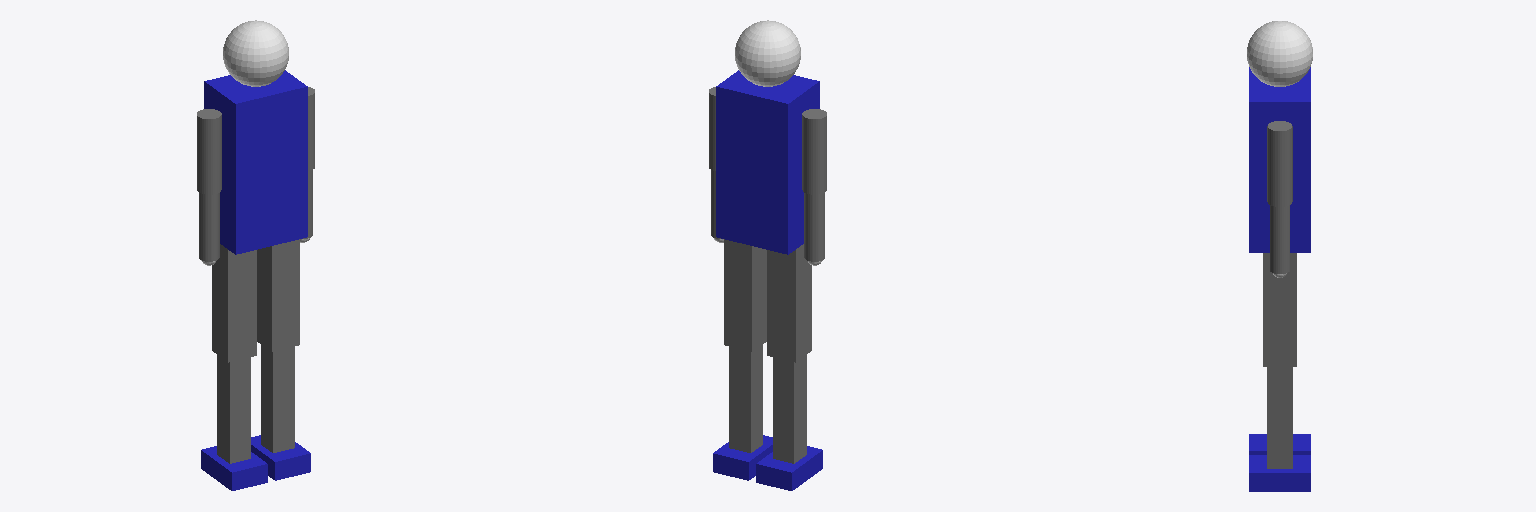
URDF robot description (humanoid_with_control):
<?xml version="1.0"?>
<!--
  ========================================
  第六讲：运动学验证用 URDF
  ========================================
  基于第五讲 humanoid_with_control.urdf，新增以下内容：
    - left_hand / right_hand 链接（固定关节，位于前臂末端）
  目的：提供末端执行器坐标系，使 tf_echo 能直接查询手端位置。

  修改说明（相对第五讲原始文件）：
    1. 在 left_elbow 关节之后，新增 left_hand 链接和 left_wrist_fixed 固定关节
    2. 在 right_elbow 关节之后，新增 right_hand 链接和 right_wrist_fixed 固定关节
    3. 其余内容与原文件完全一致
-->

<robot name="humanoid_with_control">

  <!-- ==================== 世界根链接 ==================== -->
  <link name="base_link"/>

  <joint name="base_to_torso" type="fixed">
    <parent link="base_link"/>
    <child link="torso"/>
    <origin xyz="0 0 0.625" rpy="0 0 0"/>
  </joint>

  <!-- 基础材质 -->
  <material name="blue">
    <color rgba="0.2 0.2 0.8 1.0"/>
  </material>
  <material name="grey">
    <color rgba="0.5 0.5 0.5 1.0"/>
  </material>
  <material name="white">
    <color rgba="0.9 0.9 0.9 1.0"/>
  </material>

  <!-- ==================== 躯干 ==================== -->
  <link name="torso">
    <visual>
      <geometry>
        <box size="0.2 0.15 0.4"/>
      </geometry>
      <origin xyz="0 0 0.2" rpy="0 0 0"/>
      <material name="blue"/>
    </visual>
    <collision>
      <geometry>
        <box size="0.2 0.15 0.4"/>
      </geometry>
      <origin xyz="0 0 0.2" rpy="0 0 0"/>
    </collision>
    <inertial>
      <mass value="5.0"/>
      <origin xyz="0 0 0.2" rpy="0 0 0"/>
      <inertia ixx="0.1" ixy="0" ixz="0" iyy="0.1" iyz="0" izz="0.05"/>
    </inertial>
  </link>

  <!-- ==================== 头部 ==================== -->
  <link name="head">
    <visual>
      <geometry>
        <sphere radius="0.08"/>
      </geometry>
      <origin xyz="0 0 0.08" rpy="0 0 0"/>
      <material name="white"/>
    </visual>
    <collision>
      <geometry>
        <sphere radius="0.08"/>
      </geometry>
      <origin xyz="0 0 0.08" rpy="0 0 0"/>
    </collision>
    <inertial>
      <mass value="0.5"/>
      <origin xyz="0 0 0.08" rpy="0 0 0"/>
      <inertia ixx="0.005" ixy="0" ixz="0" iyy="0.005" iyz="0" izz="0.005"/>
    </inertial>
  </link>

  <joint name="head_joint" type="fixed">
    <parent link="torso"/>
    <child link="head"/>
    <origin xyz="0 0 0.4" rpy="0 0 0"/>
  </joint>

  <!-- ==================== 左臂 ==================== -->
  <link name="left_upper_arm">
    <visual>
      <geometry>
        <cylinder length="0.2" radius="0.03"/>
      </geometry>
      <origin xyz="0 0 -0.1" rpy="0 0 0"/>
      <material name="grey"/>
    </visual>
    <collision>
      <geometry>
        <cylinder length="0.2" radius="0.03"/>
      </geometry>
      <origin xyz="0 0 -0.1" rpy="0 0 0"/>
    </collision>
    <inertial>
      <mass value="0.5"/>
      <origin xyz="0 0 -0.1" rpy="0 0 0"/>
      <inertia ixx="0.01" ixy="0" ixz="0" iyy="0.01" iyz="0" izz="0.001"/>
    </inertial>
  </link>

  <joint name="left_shoulder_pitch" type="revolute">
    <parent link="torso"/>
    <child link="left_upper_arm"/>
    <origin xyz="0.13 0 0.35" rpy="0 0 0"/>
    <axis xyz="1 0 0"/>
    <limit lower="-1.57" upper="1.57" effort="10" velocity="1.0"/>
  </joint>

  <link name="left_forearm">
    <visual>
      <geometry>
        <cylinder length="0.18" radius="0.025"/>
      </geometry>
      <origin xyz="0 0 -0.09" rpy="0 0 0"/>
      <material name="grey"/>
    </visual>
    <collision>
      <geometry>
        <cylinder length="0.18" radius="0.025"/>
      </geometry>
      <origin xyz="0 0 -0.09" rpy="0 0 0"/>
    </collision>
    <inertial>
      <mass value="0.3"/>
      <origin xyz="0 0 -0.09" rpy="0 0 0"/>
      <inertia ixx="0.005" ixy="0" ixz="0" iyy="0.005" iyz="0" izz="0.0005"/>
    </inertial>
  </link>

  <joint name="left_elbow" type="revolute">
    <parent link="left_upper_arm"/>
    <child link="left_forearm"/>
    <origin xyz="0 0 -0.2" rpy="0 0 0"/>
    <axis xyz="1 0 0"/>
    <limit lower="-2.0" upper="0" effort="10" velocity="1.0"/>
  </joint>

  <!-- 第六讲新增：左手末端标记（fixed joint，不影响控制） -->
  <link name="left_hand">
    <visual>
      <geometry>
        <sphere radius="0.02"/>
      </geometry>
      <material name="white"/>
    </visual>
    <collision>
      <geometry>
        <sphere radius="0.02"/>
      </geometry>
    </collision>
    <inertial>
      <mass value="0.05"/>
      <inertia ixx="0.0001" ixy="0" ixz="0" iyy="0.0001" iyz="0" izz="0.0001"/>
    </inertial>
  </link>

  <joint name="left_wrist_fixed" type="fixed">
    <parent link="left_forearm"/>
    <child link="left_hand"/>
    <origin xyz="0 0 -0.18" rpy="0 0 0"/>
  </joint>

  <!-- ==================== 右臂 ==================== -->
  <link name="right_upper_arm">
    <visual>
      <geometry>
        <cylinder length="0.2" radius="0.03"/>
      </geometry>
      <origin xyz="0 0 -0.1" rpy="0 0 0"/>
      <material name="grey"/>
    </visual>
    <collision>
      <geometry>
        <cylinder length="0.2" radius="0.03"/>
      </geometry>
      <origin xyz="0 0 -0.1" rpy="0 0 0"/>
    </collision>
    <inertial>
      <mass value="0.5"/>
      <origin xyz="0 0 -0.1" rpy="0 0 0"/>
      <inertia ixx="0.01" ixy="0" ixz="0" iyy="0.01" iyz="0" izz="0.001"/>
    </inertial>
  </link>

  <joint name="right_shoulder_pitch" type="revolute">
    <parent link="torso"/>
    <child link="right_upper_arm"/>
    <origin xyz="-0.13 0 0.35" rpy="0 0 0"/>
    <axis xyz="1 0 0"/>
    <limit lower="-1.57" upper="1.57" effort="10" velocity="1.0"/>
  </joint>

  <link name="right_forearm">
    <visual>
      <geometry>
        <cylinder length="0.18" radius="0.025"/>
      </geometry>
      <origin xyz="0 0 -0.09" rpy="0 0 0"/>
      <material name="grey"/>
    </visual>
    <collision>
      <geometry>
        <cylinder length="0.18" radius="0.025"/>
      </geometry>
      <origin xyz="0 0 -0.09" rpy="0 0 0"/>
    </collision>
    <inertial>
      <mass value="0.3"/>
      <origin xyz="0 0 -0.09" rpy="0 0 0"/>
      <inertia ixx="0.005" ixy="0" ixz="0" iyy="0.005" iyz="0" izz="0.0005"/>
    </inertial>
  </link>

  <joint name="right_elbow" type="revolute">
    <parent link="right_upper_arm"/>
    <child link="right_forearm"/>
    <origin xyz="0 0 -0.2" rpy="0 0 0"/>
    <axis xyz="1 0 0"/>
    <limit lower="-2.0" upper="0" effort="10" velocity="1.0"/>
  </joint>

  <!-- 第六讲新增：右手末端标记（fixed joint，不影响控制） -->
  <link name="right_hand">
    <visual>
      <geometry>
        <sphere radius="0.02"/>
      </geometry>
      <material name="white"/>
    </visual>
    <collision>
      <geometry>
        <sphere radius="0.02"/>
      </geometry>
    </collision>
    <inertial>
      <mass value="0.05"/>
      <inertia ixx="0.0001" ixy="0" ixz="0" iyy="0.0001" iyz="0" izz="0.0001"/>
    </inertial>
  </link>

  <joint name="right_wrist_fixed" type="fixed">
    <parent link="right_forearm"/>
    <child link="right_hand"/>
    <origin xyz="0 0 -0.18" rpy="0 0 0"/>
  </joint>

  <!-- ==================== 左腿 ==================== -->
  <link name="left_thigh">
    <visual>
      <geometry>
        <box size="0.08 0.08 0.3"/>
      </geometry>
      <origin xyz="0 0 -0.15" rpy="0 0 0"/>
      <material name="grey"/>
    </visual>
    <collision>
      <geometry>
        <box size="0.08 0.08 0.3"/>
      </geometry>
      <origin xyz="0 0 -0.15" rpy="0 0 0"/>
    </collision>
    <inertial>
      <mass value="1.0"/>
      <origin xyz="0 0 -0.15" rpy="0 0 0"/>
      <inertia ixx="0.02" ixy="0" ixz="0" iyy="0.02" iyz="0" izz="0.005"/>
    </inertial>
  </link>

  <joint name="left_hip_pitch" type="revolute">
    <parent link="torso"/>
    <child link="left_thigh"/>
    <origin xyz="0.06 0 0" rpy="0 0 0"/>
    <axis xyz="1 0 0"/>
    <limit lower="-1.57" upper="1.57" effort="20" velocity="1.0"/>
  </joint>

  <link name="left_shin">
    <visual>
      <geometry>
        <box size="0.06 0.06 0.3"/>
      </geometry>
      <origin xyz="0 0 -0.15" rpy="0 0 0"/>
      <material name="grey"/>
    </visual>
    <collision>
      <geometry>
        <box size="0.06 0.06 0.3"/>
      </geometry>
      <origin xyz="0 0 -0.15" rpy="0 0 0"/>
    </collision>
    <inertial>
      <mass value="0.8"/>
      <origin xyz="0 0 -0.15" rpy="0 0 0"/>
      <inertia ixx="0.015" ixy="0" ixz="0" iyy="0.015" iyz="0" izz="0.003"/>
    </inertial>
  </link>

  <joint name="left_knee" type="revolute">
    <parent link="left_thigh"/>
    <child link="left_shin"/>
    <origin xyz="0 0 -0.3" rpy="0 0 0"/>
    <axis xyz="1 0 0"/>
    <limit lower="0" upper="2.0" effort="20" velocity="1.0"/>
  </joint>

  <link name="left_foot">
    <visual>
      <geometry>
        <box size="0.1 0.15 0.05"/>
      </geometry>
      <origin xyz="0 0 0" rpy="0 0 0"/>
      <material name="blue"/>
    </visual>
    <collision>
      <geometry>
        <box size="0.1 0.15 0.05"/>
      </geometry>
      <origin xyz="0 0 0" rpy="0 0 0"/>
    </collision>
    <inertial>
      <mass value="0.3"/>
      <origin xyz="0 0 0" rpy="0 0 0"/>
      <inertia ixx="0.001" ixy="0" ixz="0" iyy="0.002" iyz="0" izz="0.002"/>
    </inertial>
  </link>

  <joint name="left_ankle" type="fixed">
    <parent link="left_shin"/>
    <child link="left_foot"/>
    <origin xyz="0 0 -0.3" rpy="0 0 0"/>
  </joint>

  <!-- ==================== 右腿 ==================== -->
  <link name="right_thigh">
    <visual>
      <geometry>
        <box size="0.08 0.08 0.3"/>
      </geometry>
      <origin xyz="0 0 -0.15" rpy="0 0 0"/>
      <material name="grey"/>
    </visual>
    <collision>
      <geometry>
        <box size="0.08 0.08 0.3"/>
      </geometry>
      <origin xyz="0 0 -0.15" rpy="0 0 0"/>
    </collision>
    <inertial>
      <mass value="1.0"/>
      <origin xyz="0 0 -0.15" rpy="0 0 0"/>
      <inertia ixx="0.02" ixy="0" ixz="0" iyy="0.02" iyz="0" izz="0.005"/>
    </inertial>
  </link>

  <joint name="right_hip_pitch" type="revolute">
    <parent link="torso"/>
    <child link="right_thigh"/>
    <origin xyz="-0.06 0 0" rpy="0 0 0"/>
    <axis xyz="1 0 0"/>
    <limit lower="-1.57" upper="1.57" effort="20" velocity="1.0"/>
  </joint>

  <link name="right_shin">
    <visual>
      <geometry>
        <box size="0.06 0.06 0.3"/>
      </geometry>
      <origin xyz="0 0 -0.15" rpy="0 0 0"/>
      <material name="grey"/>
    </visual>
    <collision>
      <geometry>
        <box size="0.06 0.06 0.3"/>
      </geometry>
      <origin xyz="0 0 -0.15" rpy="0 0 0"/>
    </collision>
    <inertial>
      <mass value="0.8"/>
      <origin xyz="0 0 -0.15" rpy="0 0 0"/>
      <inertia ixx="0.015" ixy="0" ixz="0" iyy="0.015" iyz="0" izz="0.003"/>
    </inertial>
  </link>

  <joint name="right_knee" type="revolute">
    <parent link="right_thigh"/>
    <child link="right_shin"/>
    <origin xyz="0 0 -0.3" rpy="0 0 0"/>
    <axis xyz="1 0 0"/>
    <limit lower="0" upper="2.0" effort="20" velocity="1.0"/>
  </joint>

  <link name="right_foot">
    <visual>
      <geometry>
        <box size="0.1 0.15 0.05"/>
      </geometry>
      <origin xyz="0 0 0" rpy="0 0 0"/>
      <material name="blue"/>
    </visual>
    <collision>
      <geometry>
        <box size="0.1 0.15 0.05"/>
      </geometry>
      <origin xyz="0 0 0" rpy="0 0 0"/>
    </collision>
    <inertial>
      <mass value="0.3"/>
      <origin xyz="0 0 0" rpy="0 0 0"/>
      <inertia ixx="0.001" ixy="0" ixz="0" iyy="0.002" iyz="0" izz="0.002"/>
    </inertial>
  </link>

  <joint name="right_ankle" type="fixed">
    <parent link="right_shin"/>
    <child link="right_foot"/>
    <origin xyz="0 0 -0.3" rpy="0 0 0"/>
  </joint>

  <!-- ==================== Transmission (ros_control 需要) ==================== -->
  <!-- 左臂传动 -->
  <transmission name="left_shoulder_transmission">
    <type>transmission_interface/SimpleTransmission</type>
    <joint name="left_shoulder_pitch">
      <hardwareInterface>hardware_interface/PositionJointInterface</hardwareInterface>
    </joint>
    <actuator name="left_shoulder_motor">
      <hardwareInterface>hardware_interface/PositionJointInterface</hardwareInterface>
      <mechanicalReduction>1</mechanicalReduction>
    </actuator>
  </transmission>

  <transmission name="left_elbow_transmission">
    <type>transmission_interface/SimpleTransmission</type>
    <joint name="left_elbow">
      <hardwareInterface>hardware_interface/PositionJointInterface</hardwareInterface>
    </joint>
    <actuator name="left_elbow_motor">
      <hardwareInterface>hardware_interface/PositionJointInterface</hardwareInterface>
      <mechanicalReduction>1</mechanicalReduction>
    </actuator>
  </transmission>

  <!-- 右臂传动 -->
  <transmission name="right_shoulder_transmission">
    <type>transmission_interface/SimpleTransmission</type>
    <joint name="right_shoulder_pitch">
      <hardwareInterface>hardware_interface/PositionJointInterface</hardwareInterface>
    </joint>
    <actuator name="right_shoulder_motor">
      <hardwareInterface>hardware_interface/PositionJointInterface</hardwareInterface>
      <mechanicalReduction>1</mechanicalReduction>
    </actuator>
  </transmission>

  <transmission name="right_elbow_transmission">
    <type>transmission_interface/SimpleTransmission</type>
    <joint name="right_elbow">
      <hardwareInterface>hardware_interface/PositionJointInterface</hardwareInterface>
    </joint>
    <actuator name="right_elbow_motor">
      <hardwareInterface>hardware_interface/PositionJointInterface</hardwareInterface>
      <mechanicalReduction>1</mechanicalReduction>
    </actuator>
  </transmission>

  <!-- 左腿传动 -->
  <transmission name="left_hip_transmission">
    <type>transmission_interface/SimpleTransmission</type>
    <joint name="left_hip_pitch">
      <hardwareInterface>hardware_interface/PositionJointInterface</hardwareInterface>
    </joint>
    <actuator name="left_hip_motor">
      <hardwareInterface>hardware_interface/PositionJointInterface</hardwareInterface>
      <mechanicalReduction>1</mechanicalReduction>
    </actuator>
  </transmission>

  <transmission name="left_knee_transmission">
    <type>transmission_interface/SimpleTransmission</type>
    <joint name="left_knee">
      <hardwareInterface>hardware_interface/PositionJointInterface</hardwareInterface>
    </joint>
    <actuator name="left_knee_motor">
      <hardwareInterface>hardware_interface/PositionJointInterface</hardwareInterface>
      <mechanicalReduction>1</mechanicalReduction>
    </actuator>
  </transmission>

  <!-- 右腿传动 -->
  <transmission name="right_hip_transmission">
    <type>transmission_interface/SimpleTransmission</type>
    <joint name="right_hip_pitch">
      <hardwareInterface>hardware_interface/PositionJointInterface</hardwareInterface>
    </joint>
    <actuator name="right_hip_motor">
      <hardwareInterface>hardware_interface/PositionJointInterface</hardwareInterface>
      <mechanicalReduction>1</mechanicalReduction>
    </actuator>
  </transmission>

  <transmission name="right_knee_transmission">
    <type>transmission_interface/SimpleTransmission</type>
    <joint name="right_knee">
      <hardwareInterface>hardware_interface/PositionJointInterface</hardwareInterface>
    </joint>
    <actuator name="right_knee_motor">
      <hardwareInterface>hardware_interface/PositionJointInterface</hardwareInterface>
      <mechanicalReduction>1</mechanicalReduction>
    </actuator>
  </transmission>

  <!-- ==================== Gazebo扩展 ==================== -->
  <gazebo reference="torso">
    <material>Gazebo/Blue</material>
    <mu1>0.5</mu1>
    <mu2>0.5</mu2>
  </gazebo>

  <gazebo reference="left_foot">
    <mu1>1.0</mu1>
    <mu2>1.0</mu2>
  </gazebo>

  <gazebo reference="right_foot">
    <mu1>1.0</mu1>
    <mu2>1.0</mu2>
  </gazebo>

  <!-- ==================== ros_control Gazebo 插件 ==================== -->
  <gazebo>
    <plugin name="gazebo_ros_control" filename="libgazebo_ros_control.so">
      <robotNamespace>/humanoid</robotNamespace>
      <robotParam>robot_description</robotParam>
      <controlPeriod>0.001</controlPeriod>
    </plugin>
  </gazebo>

</robot>

--- Facts derived from the render (not from the file) ---
Views: 3 orthographic renders of the robot side by side, from view 1: azimuth 30°, elevation 25°; view 2: azimuth 150°, elevation 25°; view 3: azimuth 270°, elevation 25°.
Robot: humanoid_with_control — 15 links, 14 joints (8 revolute, 6 fixed); root link base_link; default pose: all joints at 0.
Visible links, largest first — view 1: torso, right_thigh, left_thigh, head, left_shin, right_shin, right_upper_arm, right_foot, left_foot, right_forearm, left_upper_arm; view 2: torso, right_thigh, left_thigh, head, left_shin, right_shin, right_upper_arm, right_foot, left_foot, right_forearm, left_upper_arm; view 3: torso, head, left_thigh, left_shin, left_upper_arm, left_foot, left_forearm, right_foot.
Boxes of the visible links, left/top/right/bottom form: torso: left=204, top=70, right=307, bottom=254; right_thigh: left=212, top=244, right=256, bottom=362; left_thigh: left=257, top=239, right=299, bottom=351; head: left=223, top=20, right=288, bottom=86; left_shin: left=261, top=345, right=294, bottom=452; right_shin: left=217, top=355, right=250, bottom=463; right_upper_arm: left=197, top=109, right=221, bottom=194; right_foot: left=201, top=446, right=267, bottom=490; left_foot: left=251, top=435, right=310, bottom=480; right_forearm: left=199, top=193, right=219, bottom=261; left_upper_arm: left=308, top=87, right=314, bottom=170; torso: left=716, top=70, right=819, bottom=254; right_thigh: left=767, top=244, right=811, bottom=362; left_thigh: left=724, top=239, right=766, bottom=351; head: left=735, top=20, right=800, bottom=86; left_shin: left=729, top=345, right=762, bottom=452; right_shin: left=773, top=355, right=806, bottom=463; right_upper_arm: left=802, top=109, right=826, bottom=194; right_foot: left=756, top=446, right=822, bottom=490; left_foot: left=713, top=435, right=772, bottom=480; right_forearm: left=804, top=193, right=824, bottom=261; left_upper_arm: left=709, top=87, right=715, bottom=170; torso: left=1249, top=67, right=1310, bottom=252; head: left=1247, top=21, right=1312, bottom=86; left_thigh: left=1263, top=253, right=1296, bottom=366; left_shin: left=1267, top=367, right=1292, bottom=468; left_upper_arm: left=1267, top=121, right=1292, bottom=206; left_foot: left=1249, top=455, right=1310, bottom=491; left_forearm: left=1270, top=205, right=1289, bottom=273; right_foot: left=1249, top=434, right=1310, bottom=454.
Bounding box of the posed robot: 0.32 × 0.16 × 1.19 m (x, y, z).
Geometry: primitives only (box / cylinder / sphere), no mesh files.
